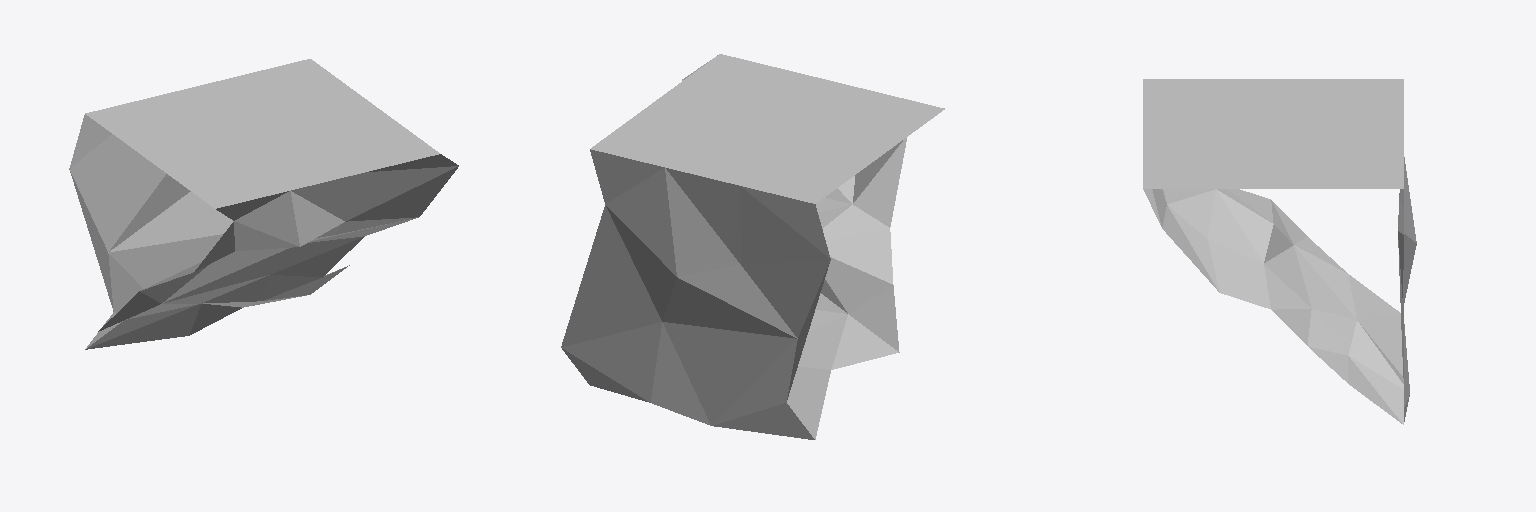
File: RockPlatform2.obj
3 views of the same model, side by side, from view 1: azimuth 30°, elevation 25°; view 2: azimuth 150°, elevation 25°; view 3: azimuth 270°, elevation 25° (orthographic).
Parts seen in each view (by area): view 1: Cube; view 2: Cube; view 3: Cube.
Part boxes in pixels (left/top/right/bottom): Cube: left=69, top=59, right=458, bottom=349; Cube: left=561, top=54, right=944, bottom=439; Cube: left=1143, top=79, right=1416, bottom=424.
Size of the model in its own units: 2.57 by 2.1 by 2.1.